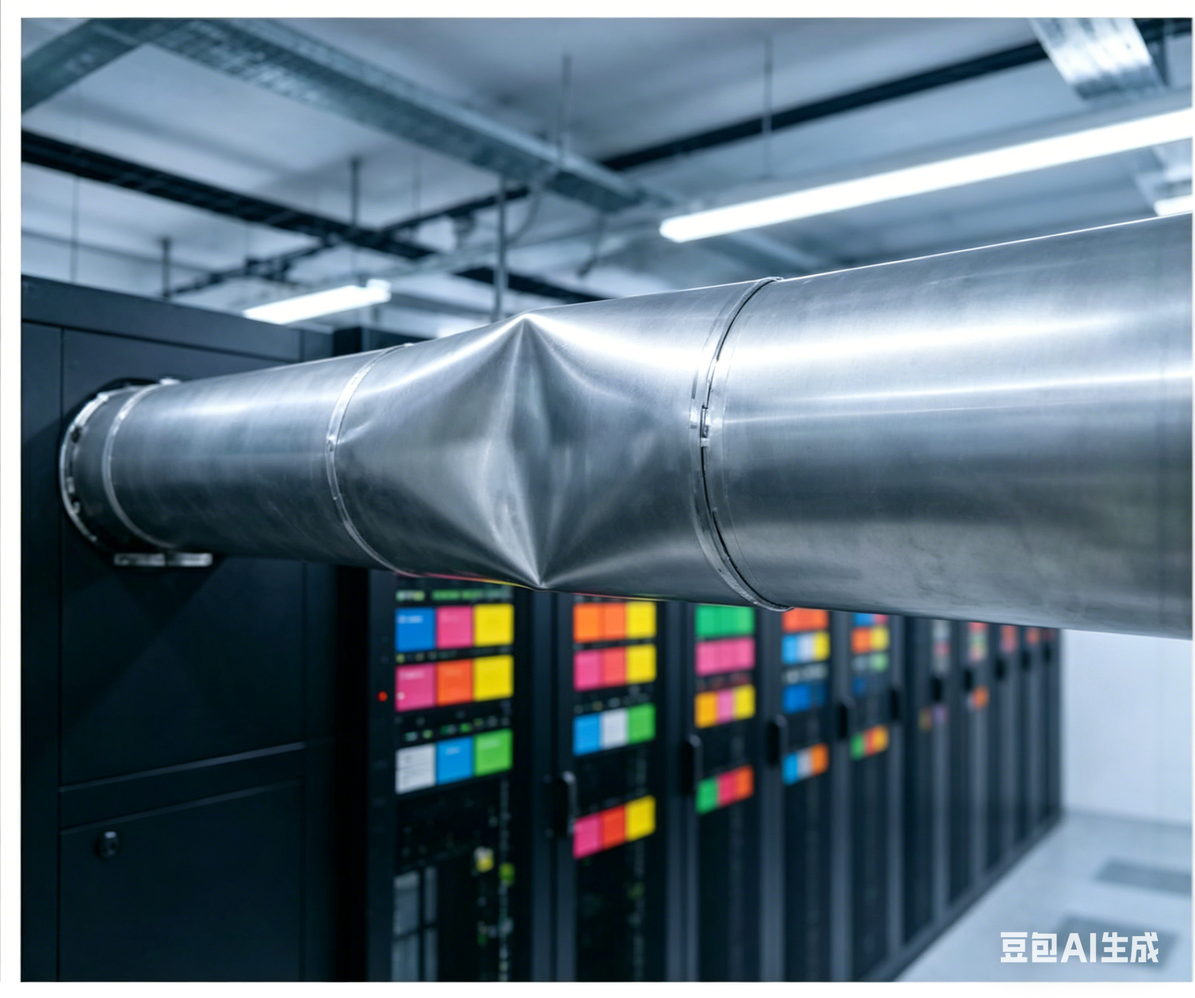Leakage: (405, 310, 648, 595)
